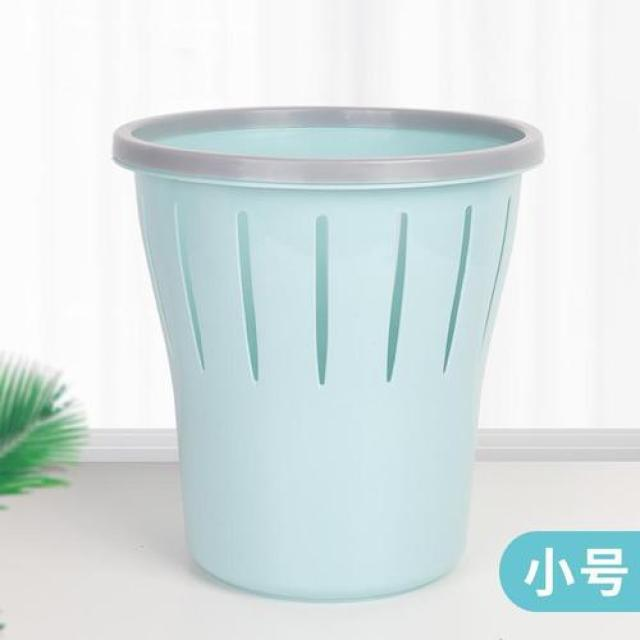dustbin: (109, 102, 548, 605)
